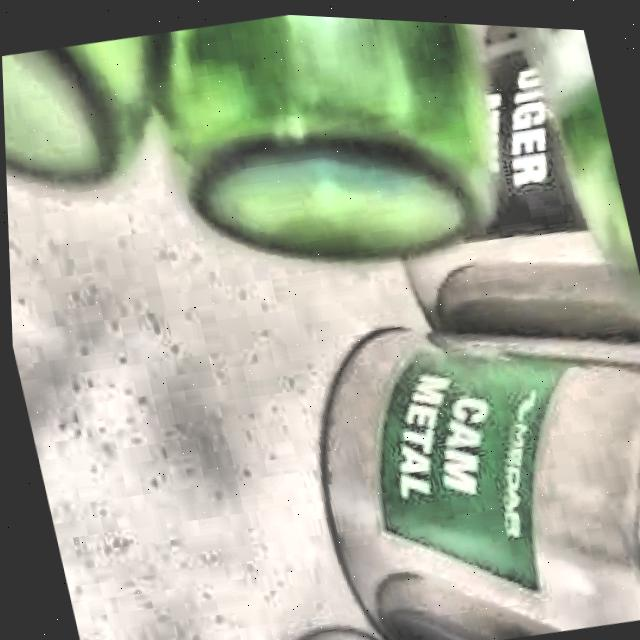glass: (2, 12, 489, 257)
